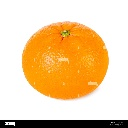orange: (19, 21, 112, 101)
